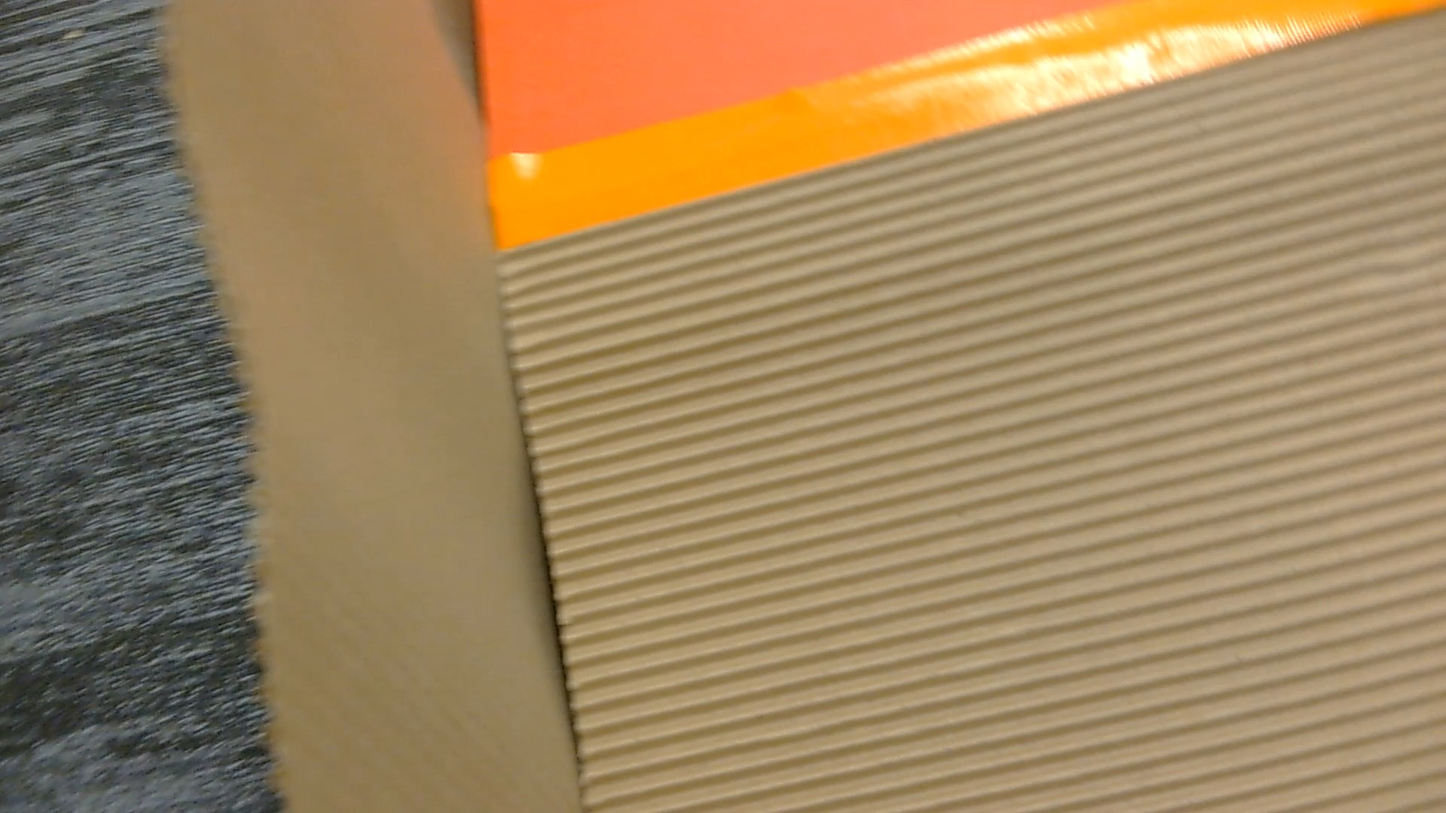Ramp: (166, 0, 1445, 812)
